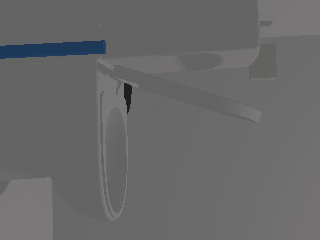lid_1: (96, 59, 260, 122)
